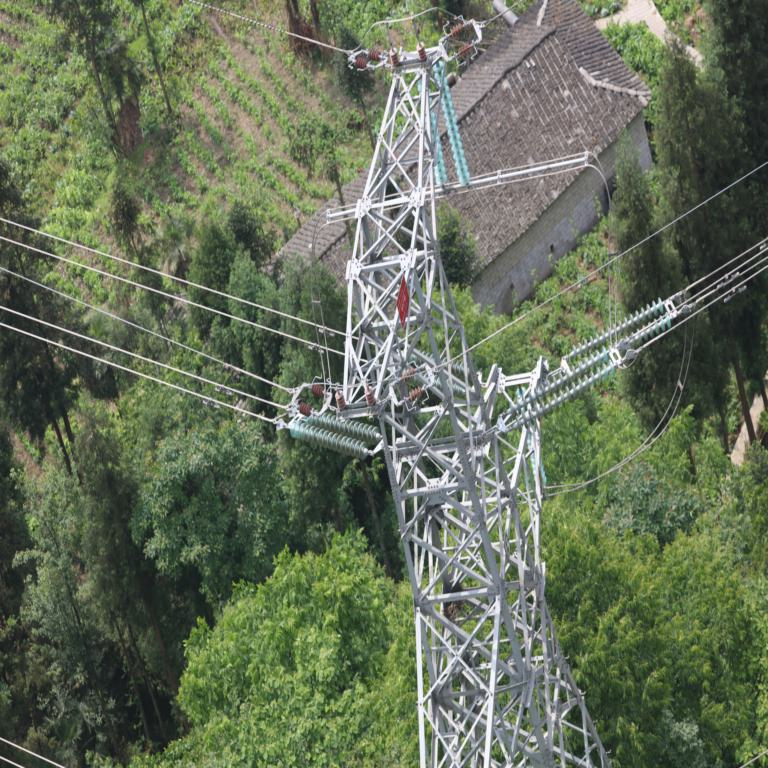nest: (441, 579, 463, 619)
